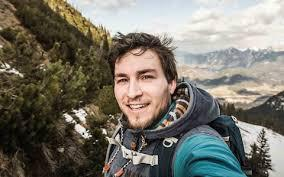face: (113, 49, 164, 127)
